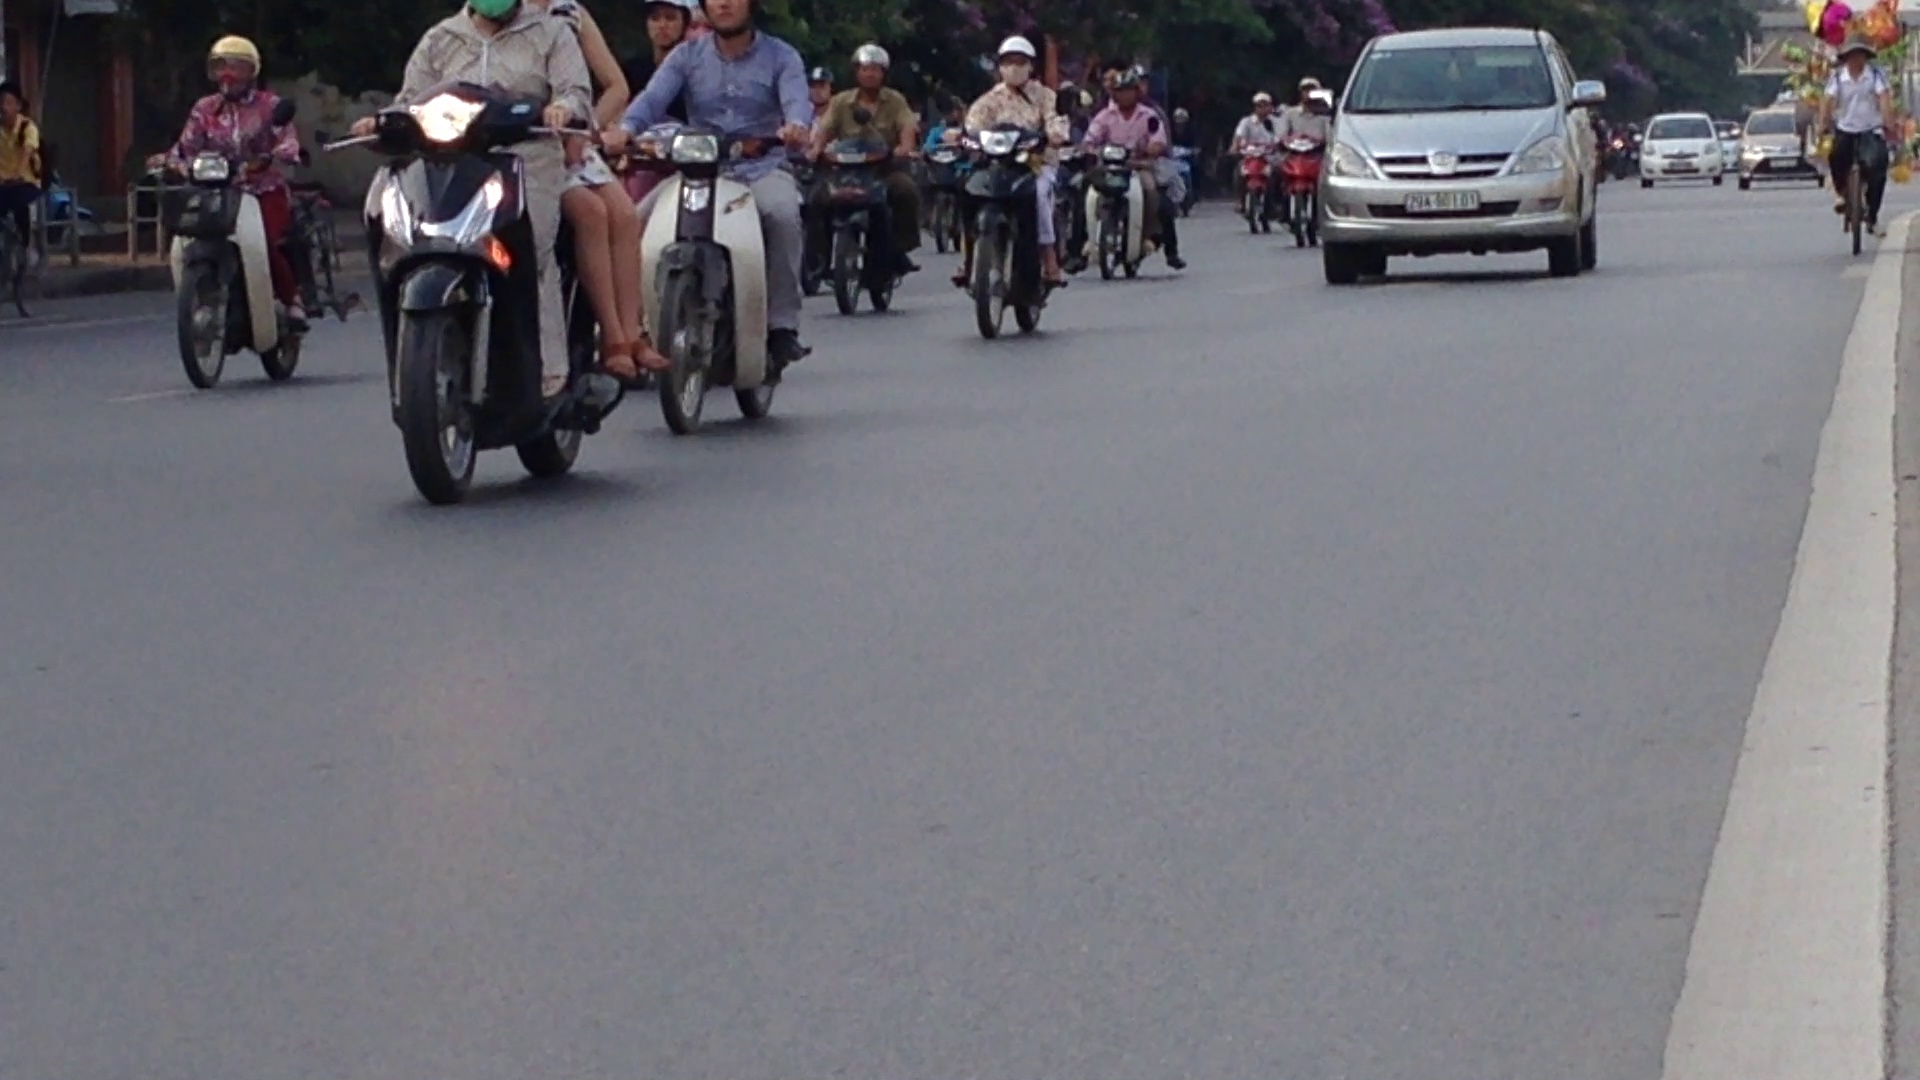person: (1399, 181, 1488, 215)
